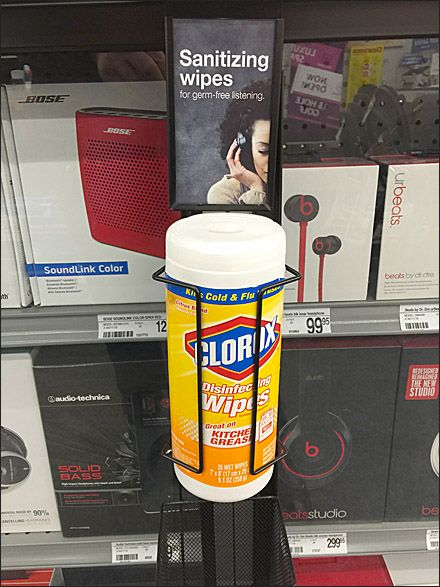Wipes: (162, 209, 290, 505)
